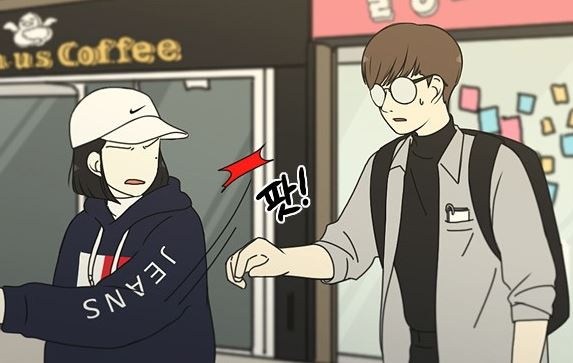hat: (69, 89, 190, 145)
